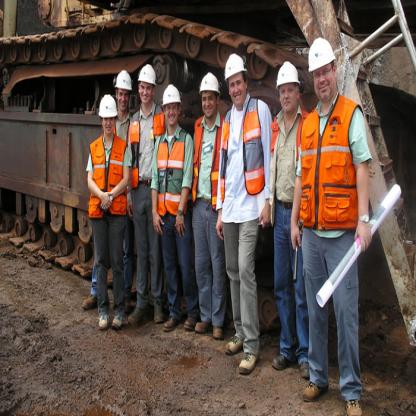person: (298, 27, 378, 408), (219, 33, 273, 389), (191, 50, 248, 344), (155, 65, 206, 356), (267, 23, 311, 360), (88, 69, 130, 324), (129, 55, 168, 324)
